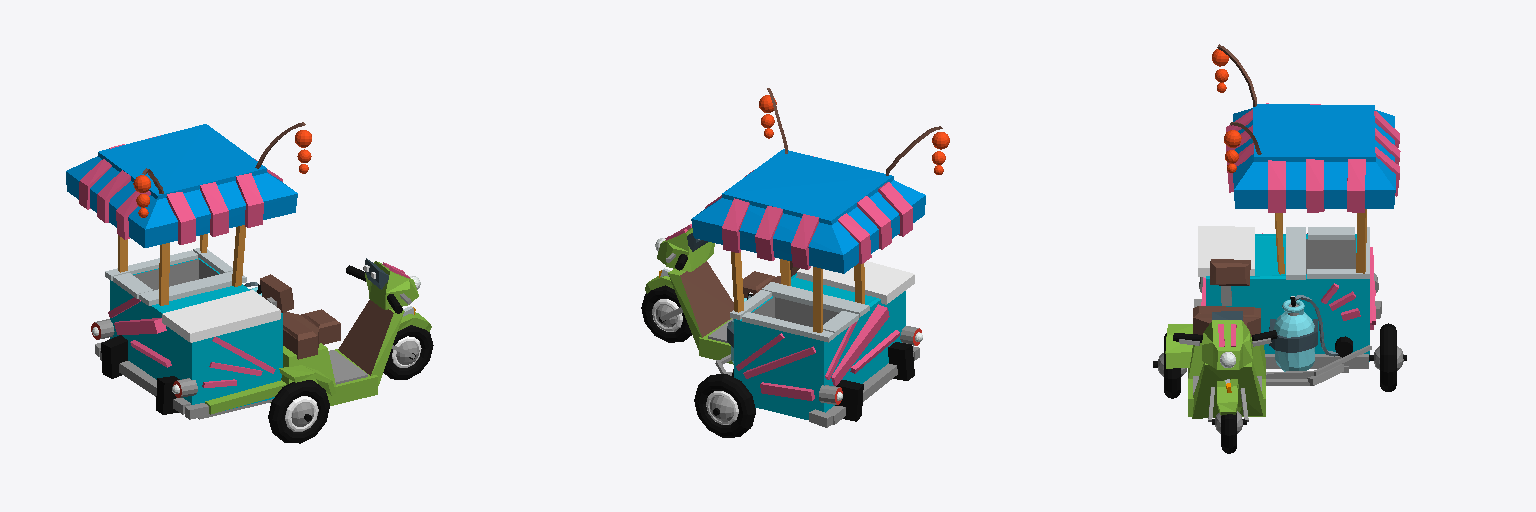
The picture shows the model from 3 angles: view 1: azimuth 30°, elevation 25°; view 2: azimuth 150°, elevation 25°; view 3: azimuth 270°, elevation 25°; orthographic projection.
Parts seen in each view (by area): view 1: group[number redacted], group[number redacted], group[number redacted], group[number redacted], group[number redacted], group[number redacted], group[number redacted], group[number redacted], group[number redacted], group[number redacted], group[number redacted], group[number redacted] (+15 smaller); view 2: group[number redacted], group[number redacted], group[number redacted], group[number redacted], group[number redacted], group[number redacted], group[number redacted], group[number redacted], group[number redacted], group[number redacted], group[number redacted], group[number redacted] (+13 smaller); view 3: group[number redacted], group[number redacted], group[number redacted], group[number redacted], group[number redacted], group[number redacted], group[number redacted], group[number redacted], group[number redacted], group[number redacted], group[number redacted], group[number redacted] (+11 smaller).
Part boxes in pixels (left/top/right/bottom): group[number redacted]: left=66, top=124, right=297, bottom=247; group[number redacted]: left=110, top=258, right=282, bottom=410; group[number redacted]: left=162, top=290, right=280, bottom=342; group[number redacted]: left=268, top=380, right=329, bottom=443; group[number redacted]: left=338, top=300, right=404, bottom=385; group[number redacted]: left=281, top=309, right=340, bottom=359; group[number redacted]: left=270, top=343, right=377, bottom=405; group[number redacted]: left=383, top=325, right=433, bottom=379; group[number redacted]: left=139, top=271, right=246, bottom=305; group[number redacted]: left=365, top=261, right=418, bottom=309; group[number redacted]: left=205, top=380, right=286, bottom=414; group[number redacted]: left=200, top=182, right=228, bottom=236; group[number redacted]: left=691, top=149, right=925, bottom=273; group[number redacted]: left=734, top=273, right=905, bottom=419; group[number redacted]: left=668, top=261, right=733, bottom=349; group[number redacted]: left=694, top=374, right=755, bottom=437; group[number redacted]: left=796, top=261, right=914, bottom=304; group[number redacted]: left=641, top=285, right=691, bottom=342; group[number redacted]: left=762, top=282, right=869, bottom=317; group[number redacted]: left=831, top=304, right=889, bottom=385; group[number redacted]: left=657, top=228, right=714, bottom=271; group[number redacted]: left=742, top=312, right=834, bottom=342; group[number redacted]: left=791, top=214, right=818, bottom=269; group[number redacted]: left=755, top=206, right=782, bottom=260; group[number redacted]: left=1233, top=104, right=1395, bottom=208; group[number redacted]: left=1206, top=234, right=1369, bottom=361; group[number redacted]: left=1198, top=226, right=1254, bottom=277; group[number redacted]: left=1192, top=361, right=1263, bottom=418; group[number redacted]: left=1202, top=320, right=1252, bottom=369; group[number redacted]: left=1274, top=300, right=1314, bottom=371; group[number redacted]: left=1369, top=323, right=1406, bottom=391; group[number redacted]: left=1188, top=337, right=1265, bottom=416; group[number redacted]: left=1210, top=259, right=1250, bottom=285; group[number redacted]: left=1286, top=227, right=1305, bottom=279; group[number redacted]: left=1193, top=306, right=1260, bottom=336; group[number redacted]: left=1347, top=159, right=1365, bottom=212.
Bounding box in the file's own units: 4.41 × 4.05 × 3.21.